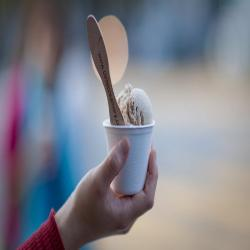icecream: (101, 81, 158, 133)
